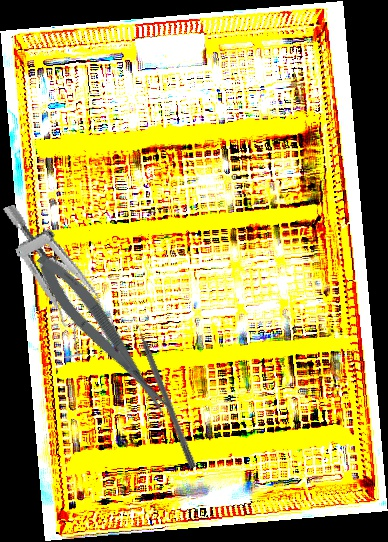Micro Scissor: (28, 245, 180, 427)
Pusher: (131, 313, 198, 470)
Speculum: (1, 186, 121, 365)
